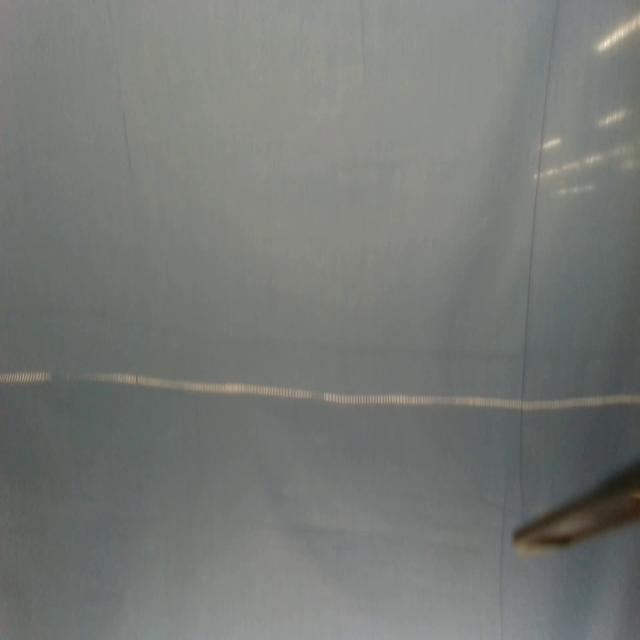crease: (519, 0, 564, 402), (107, 0, 137, 184), (494, 481, 512, 640), (519, 409, 528, 523)
